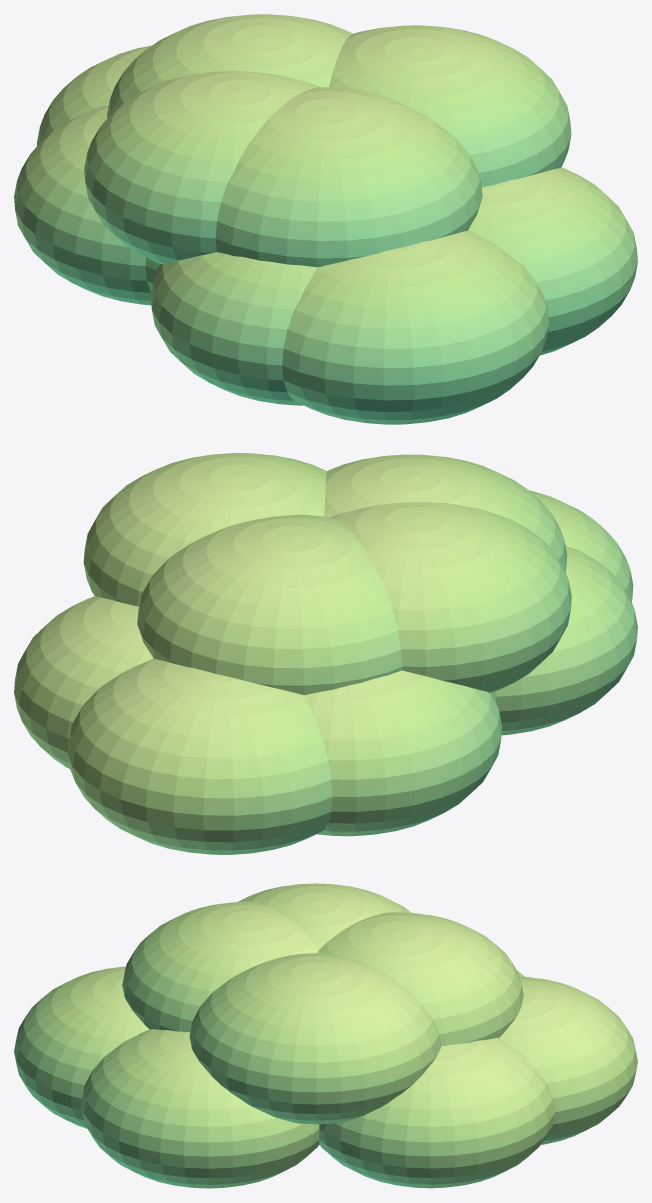
The model's file is Arbol3.fbx.
3 renders of one model, top to bottom at view 1: azimuth 30°, elevation 25°; view 2: azimuth 150°, elevation 25°; view 3: azimuth 270°, elevation 25°, orthographic. The views are drawn at different scales.
Parts seen in each view (by area): view 1: Sphere.004; view 2: Sphere.004; view 3: Sphere.004.
Boxes of the visible parts, box(x1,y1,x2,y2) form: Sphere.004: box(14, 14, 637, 424); Sphere.004: box(14, 453, 637, 854); Sphere.004: box(14, 883, 637, 1188).
Bounding box in the file's own units: 846 × 440 × 1257.
Materials: 1 (1 with a texture image).
